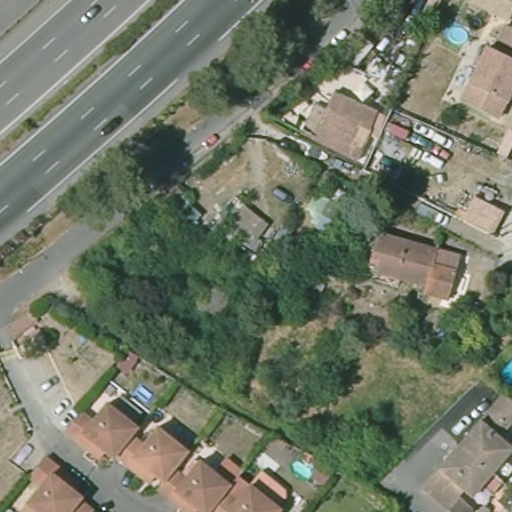pool: (291, 456, 319, 484), (445, 22, 475, 47), (501, 354, 512, 388)
